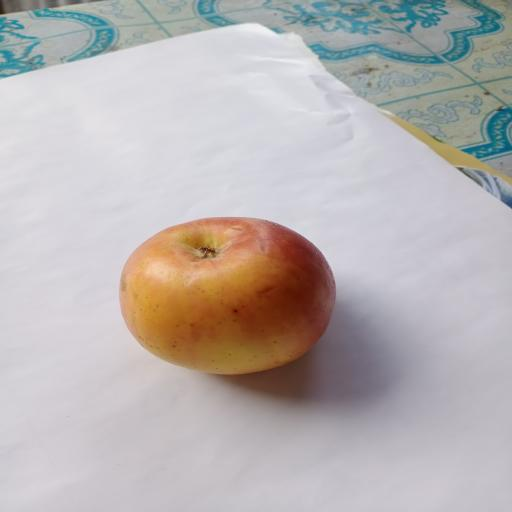apple-ripe: (114, 213, 341, 387)
